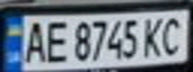4: (106, 16, 127, 61)
5: (121, 16, 145, 60)
7: (90, 17, 109, 62)
8: (69, 17, 93, 63)
A: (18, 18, 51, 64)
C: (157, 12, 190, 56)
E: (42, 17, 72, 64)
K: (139, 14, 169, 58)
